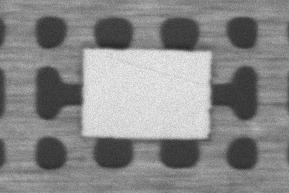DIE_CRACK: (157, 37, 289, 55)
